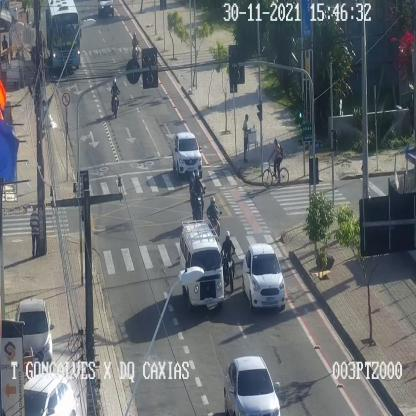bicycle: (262, 138, 289, 187)
bus: (44, 0, 85, 78)
car: (180, 223, 224, 307), (224, 356, 280, 415), (242, 244, 285, 308), (16, 299, 52, 371), (23, 372, 76, 416), (172, 132, 202, 177), (100, 0, 118, 20)
motorbike: (221, 231, 236, 292), (189, 170, 205, 221), (206, 196, 220, 244), (110, 78, 121, 118), (131, 32, 139, 61)
person: (30, 206, 39, 257), (242, 114, 250, 161)
